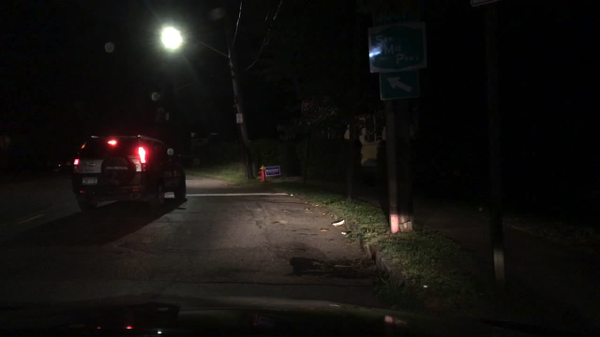car: (73, 135, 186, 211), (52, 156, 74, 174)
traffic sign: (366, 22, 425, 71), (379, 72, 420, 100), (264, 165, 280, 177)
